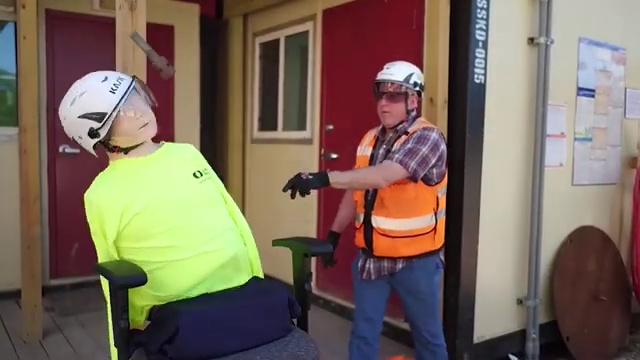helmet: (59, 59, 123, 160), (362, 54, 440, 97)
jacket: (340, 119, 457, 257)
